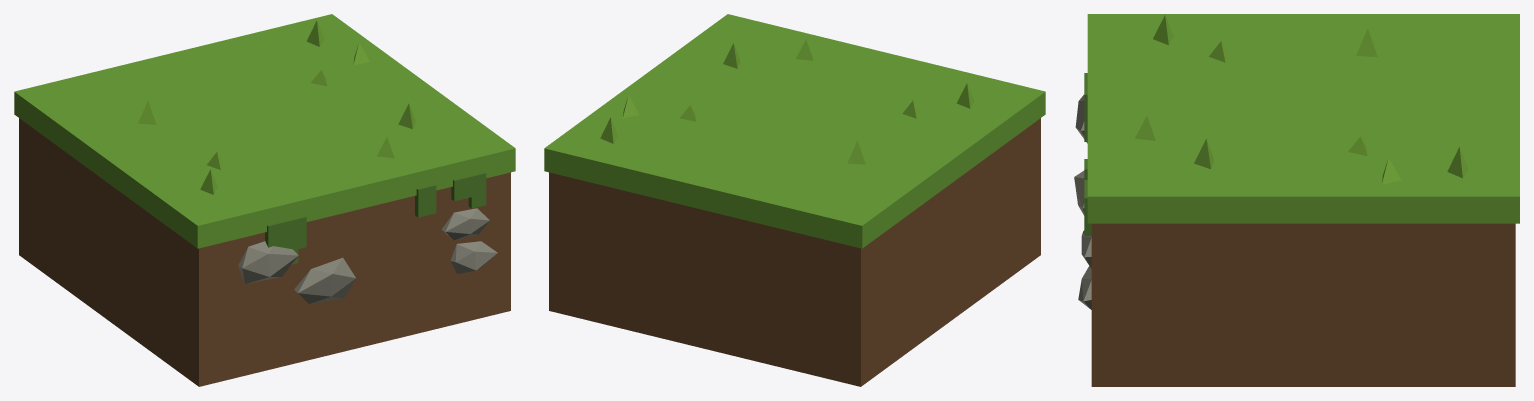
File: ground_corner_inner.glb
3 renders of one model, left to right at view 1: azimuth 30°, elevation 25°; view 2: azimuth 150°, elevation 25°; view 3: azimuth 270°, elevation 25°, orthographic. The views are drawn at different scales.
Visible parts, largest first — view 1: grass-col, dirt-col, stone, moss, leaf_light; view 2: dirt-col, grass-col, leaf_light; view 3: grass-col, dirt-col, leaf_light, stone, moss.
Part boxes in pixels (left/top/right/bottom): grass-col: left=14, top=14, right=515, bottom=248; dirt-col: left=19, top=118, right=510, bottom=386; stone: left=238, top=208, right=497, bottom=303; moss: left=265, top=172, right=486, bottom=266; leaf_light: left=138, top=20, right=415, bottom=194; dirt-col: left=549, top=118, right=1040, bottom=386; grass-col: left=544, top=14, right=1045, bottom=248; leaf_light: left=600, top=39, right=974, bottom=164; grass-col: left=1087, top=14, right=1519, bottom=223; dirt-col: left=1091, top=223, right=1515, bottom=386; leaf_light: left=1135, top=15, right=1468, bottom=184; stone: left=1074, top=94, right=1091, bottom=309; moss: left=1084, top=73, right=1091, bottom=235.
Bounding box in the file's own units: 4.08 × 2.28 × 4.21.
